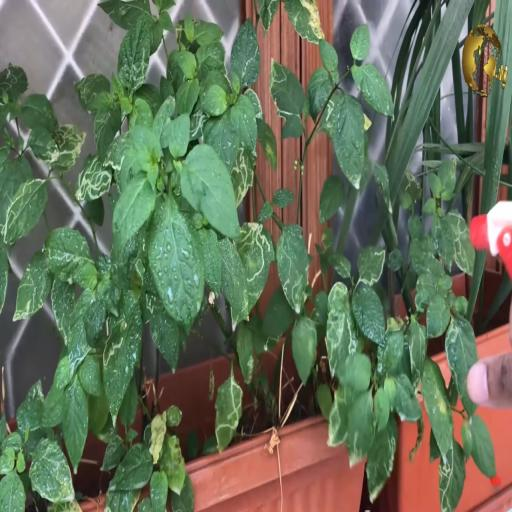Healthy: (179, 142, 241, 239)
Leaf_Miner: (102, 288, 143, 430), (230, 221, 274, 331), (444, 317, 480, 424), (0, 176, 47, 246), (325, 281, 358, 380), (29, 434, 75, 504), (276, 222, 308, 316), (12, 248, 52, 323), (366, 414, 398, 504), (67, 288, 97, 381), (44, 225, 90, 284), (119, 11, 152, 92), (440, 206, 476, 278), (268, 56, 305, 124), (214, 377, 244, 457), (346, 389, 375, 469), (230, 16, 260, 91), (74, 152, 113, 206), (438, 437, 466, 512), (284, 0, 325, 44), (50, 124, 87, 172), (94, 102, 122, 164), (97, 0, 152, 31), (74, 72, 111, 118), (52, 276, 76, 346), (230, 142, 254, 208), (408, 318, 428, 390), (326, 384, 347, 450), (356, 244, 387, 287), (28, 125, 60, 164), (236, 326, 254, 386), (100, 432, 124, 472), (257, 0, 279, 38), (243, 84, 264, 119), (402, 170, 424, 202), (189, 108, 210, 141), (324, 90, 339, 126), (144, 289, 158, 319), (262, 332, 284, 351), (134, 256, 146, 286)
